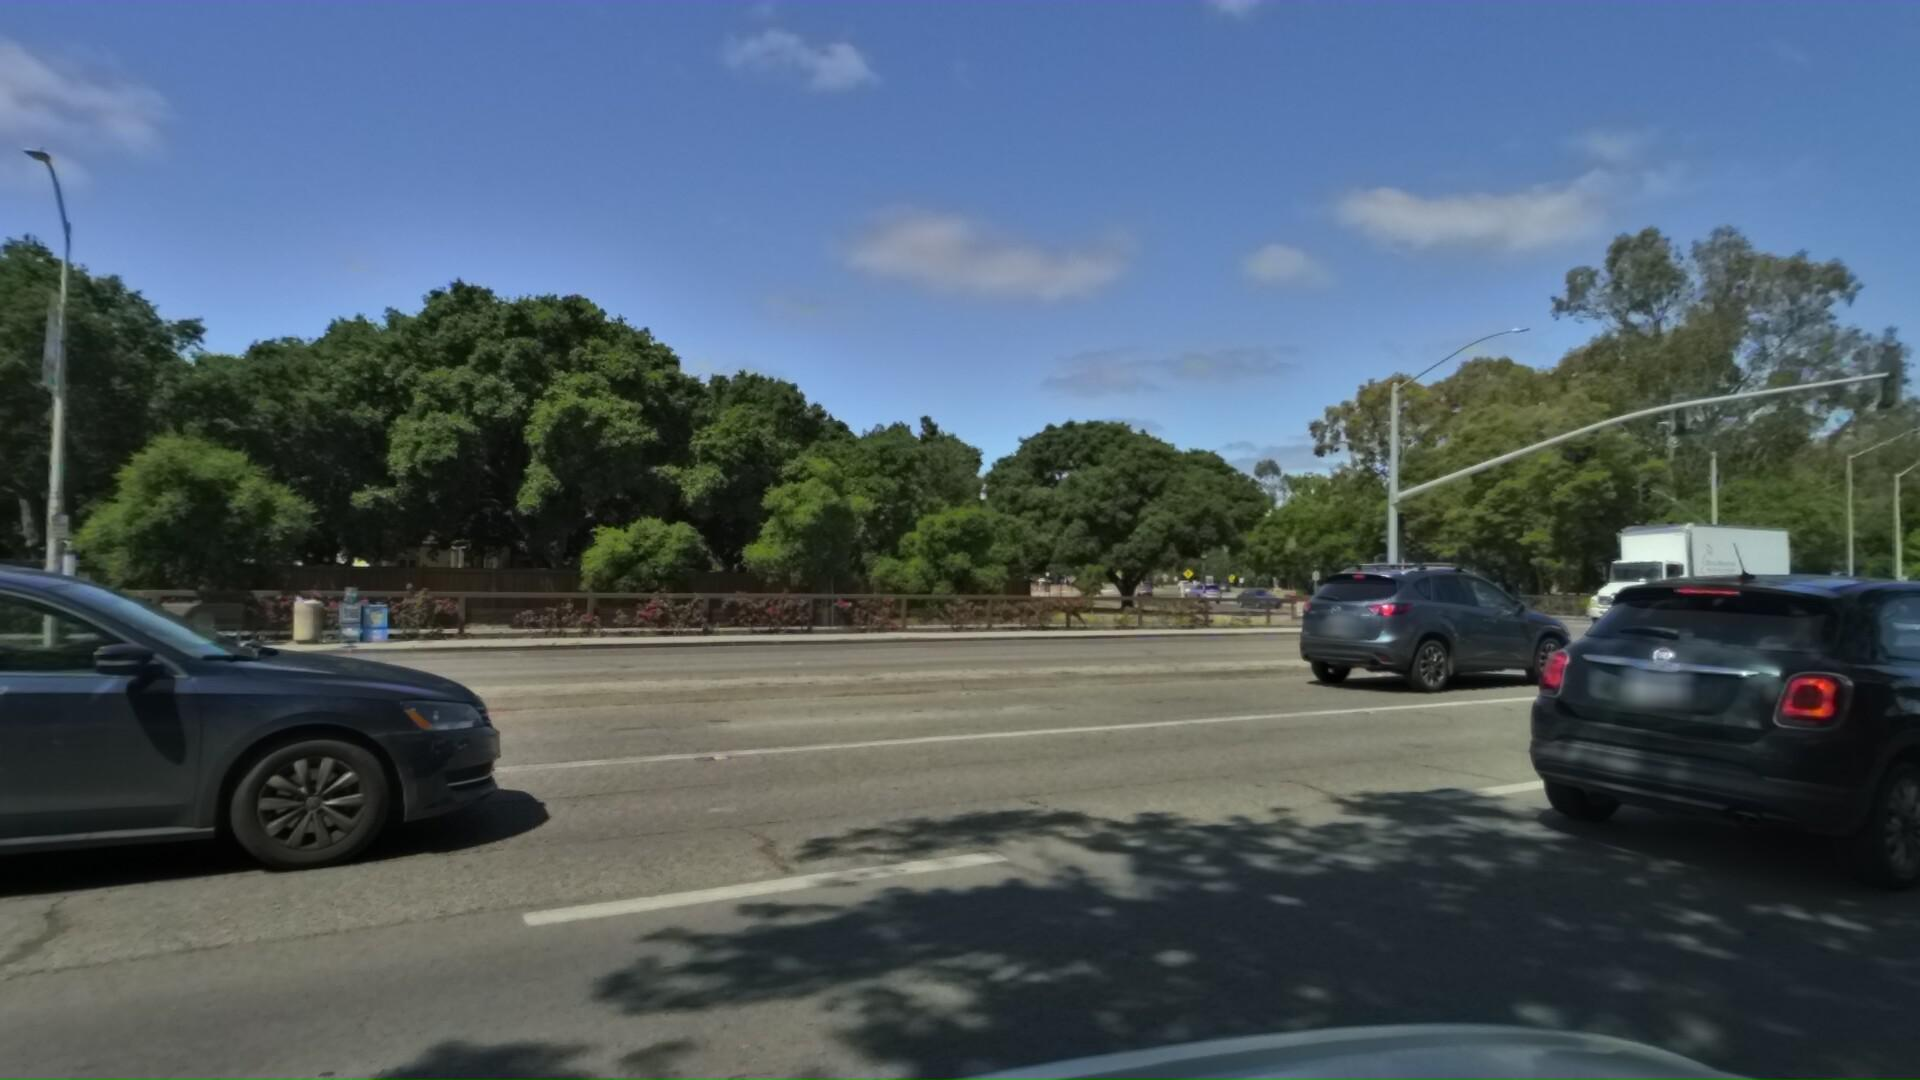car: (0, 502, 553, 1034), (1489, 535, 1920, 934), (1288, 550, 1600, 699), (1865, 578, 1920, 683), (1859, 558, 1920, 642), (1222, 576, 1280, 597)
truck: (1551, 505, 1785, 626)
